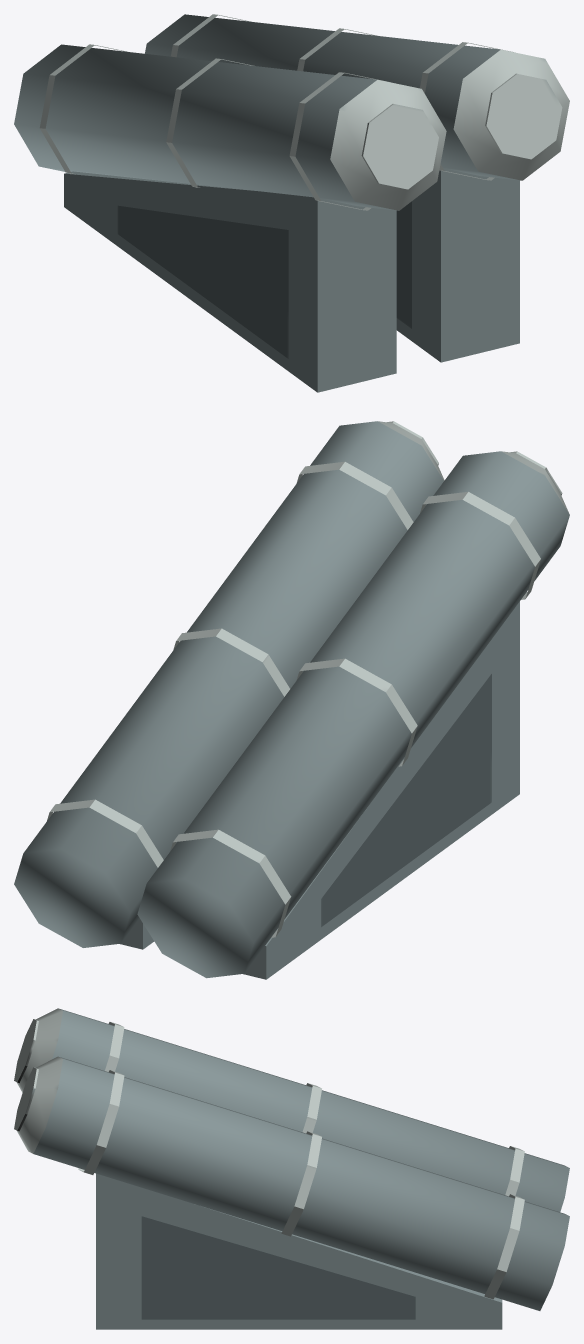
Rendered from mount_ssm_canister.glb.
3 renders of one model, top to bottom at view 1: azimuth 30°, elevation 25°; view 2: azimuth 150°, elevation 25°; view 3: azimuth 270°, elevation 25°, orthographic. The views are drawn at different scales.
Visible parts, largest first — view 1: MESH_SLAVA_TEMPLATE_ssm; view 2: MESH_SLAVA_TEMPLATE_ssm; view 3: MESH_SLAVA_TEMPLATE_ssm.
Part boxes in pixels (x1=…): MESH_SLAVA_TEMPLATE_ssm: x1=14, y1=14, x2=569, y2=392; MESH_SLAVA_TEMPLATE_ssm: x1=14, y1=421, x2=569, y2=979; MESH_SLAVA_TEMPLATE_ssm: x1=14, y1=1008, x2=569, y2=1329.
Bounding box in the file's own units: 4.55 × 5.63 × 11.13.
1 material, 1 textured.
